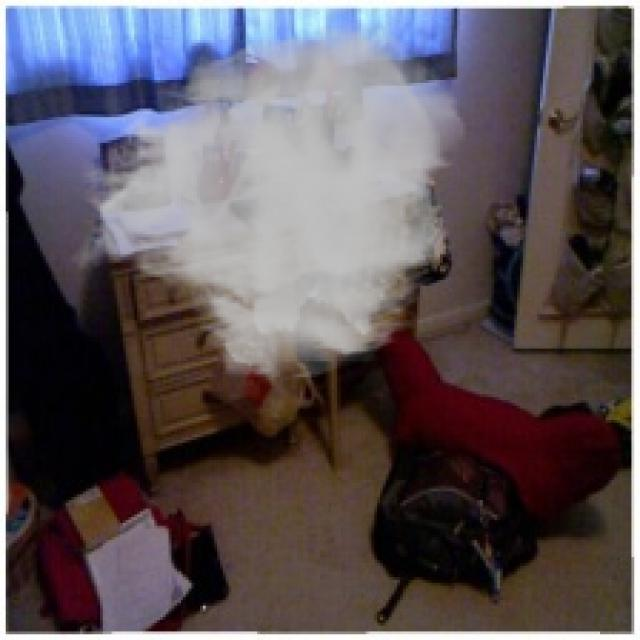smoke: (69, 20, 468, 383)
